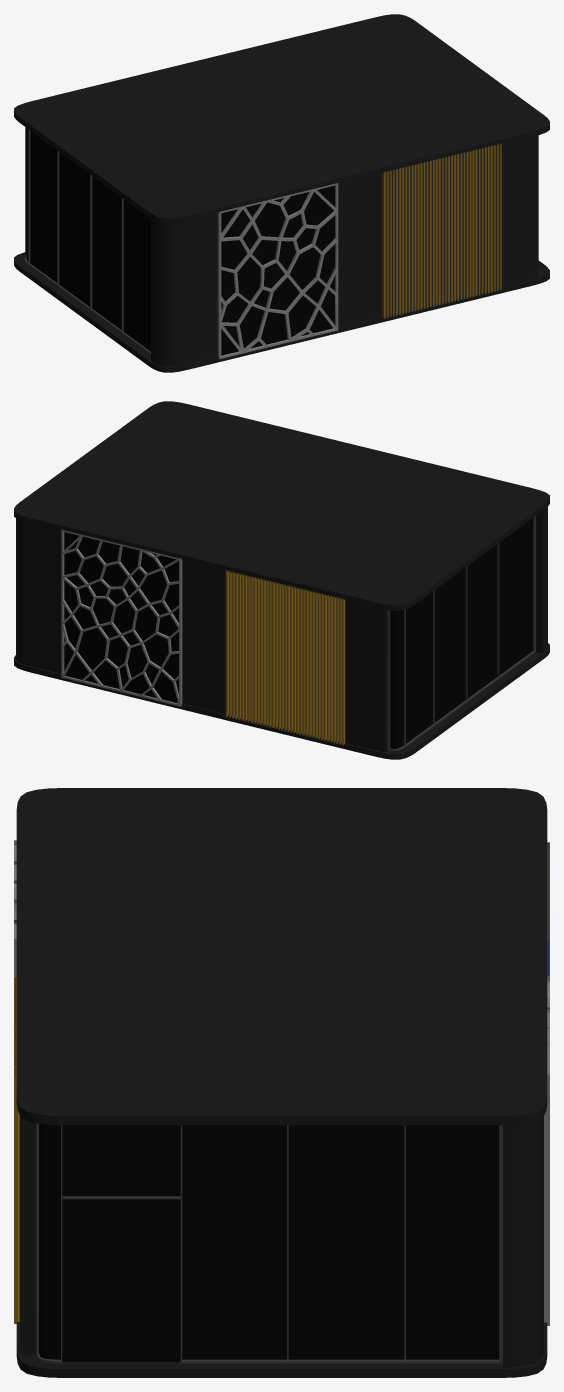
The model's file is SM_BuildingMK2_Base02.fbx.
3 views of the same model, one above another, from view 1: azimuth 30°, elevation 25°; view 2: azimuth 150°, elevation 25°; view 3: azimuth 270°, elevation 25° (orthographic). The views are drawn at different scales.
Parts seen in each view (by area): view 1: SM_BuildingMK2_Base02; view 2: SM_BuildingMK2_Base02; view 3: SM_BuildingMK2_Base02.
Part boxes in pixels (x1,y1,x2,y2): SM_BuildingMK2_Base02: (14, 14, 549, 372); SM_BuildingMK2_Base02: (14, 401, 549, 759); SM_BuildingMK2_Base02: (14, 788, 549, 1377).
Size of the model in its own units: 1294 by 482 by 894.
